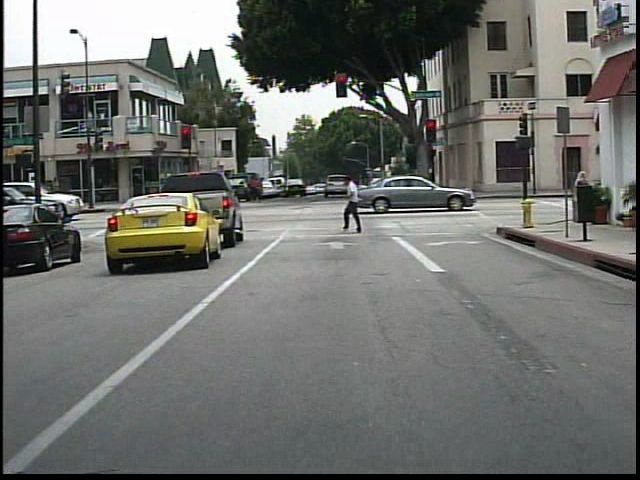person: (340, 174, 370, 235), (569, 168, 595, 221), (243, 170, 269, 210)
